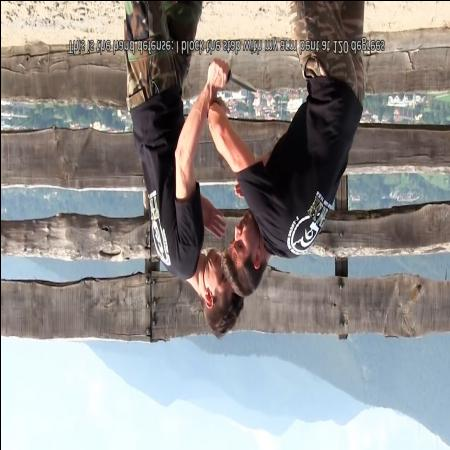long weapon: (206, 58, 261, 100)
